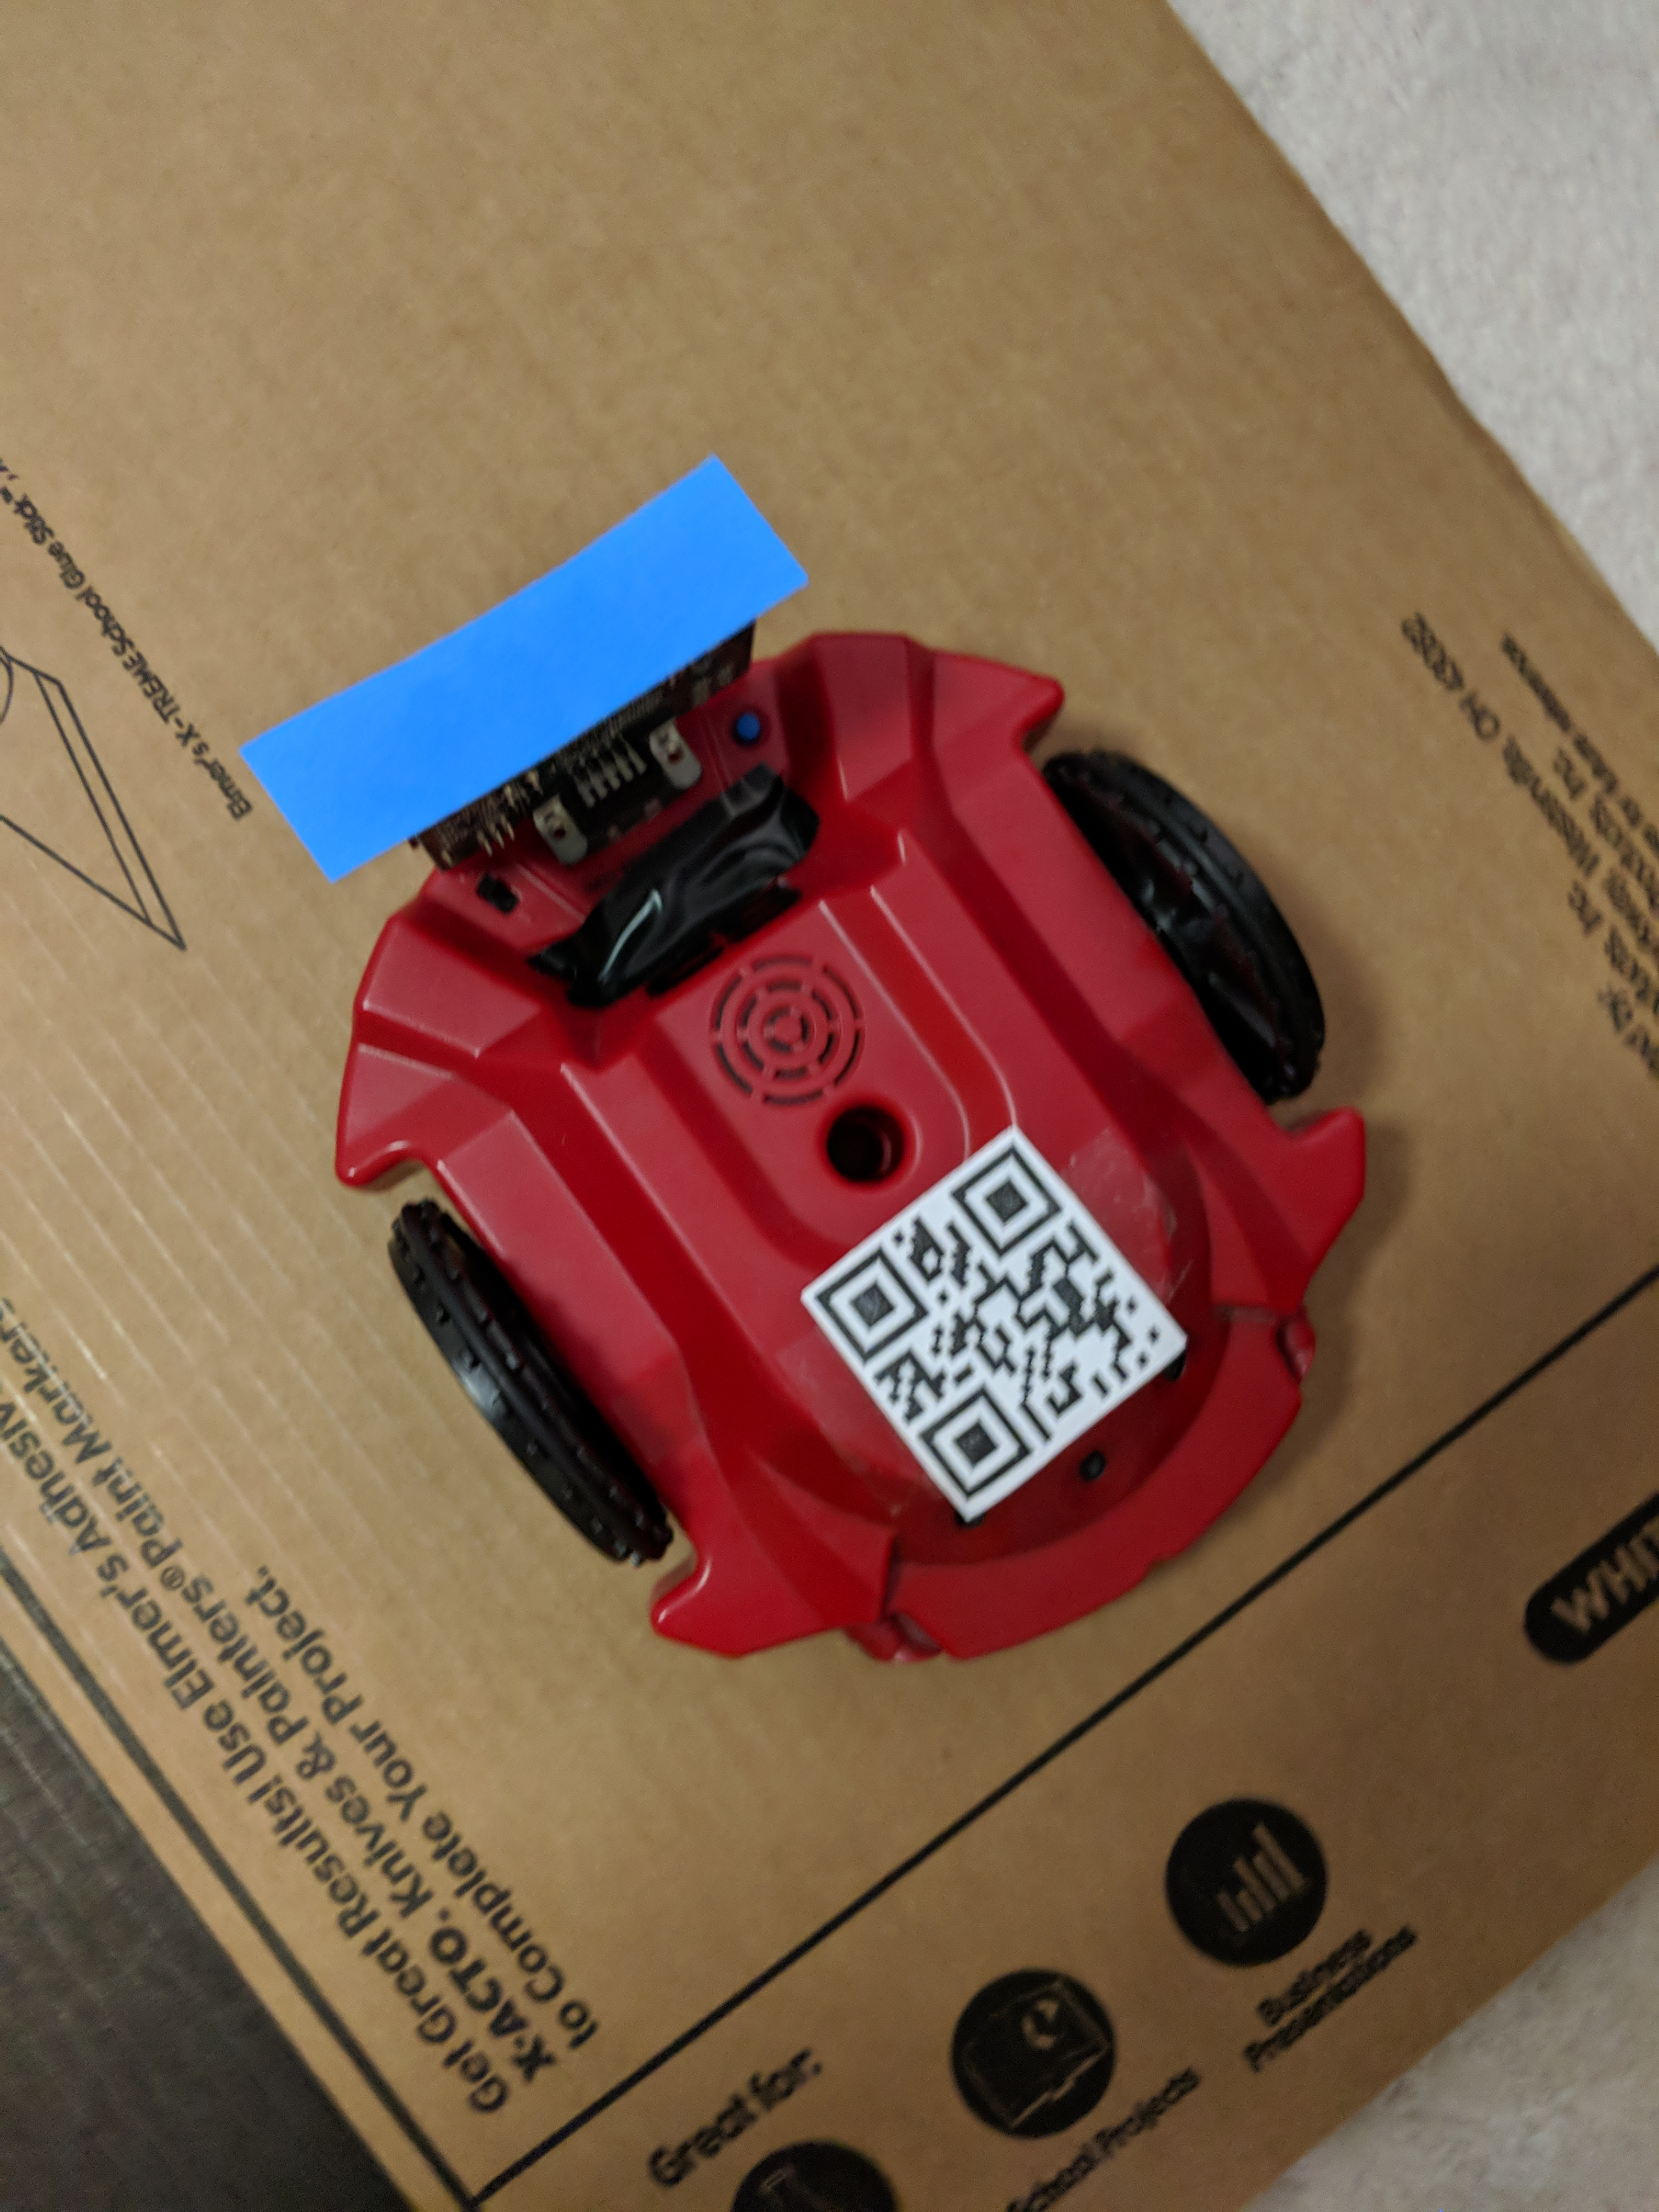chassis: (260, 448, 1385, 1677)
qr: (770, 1115, 1194, 1510)
